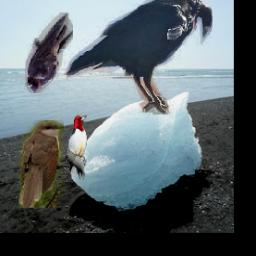Crow: (65, 0, 213, 115)
Cuckoo: (19, 121, 65, 209)
Swallow: (25, 13, 74, 93)
Woodpecker: (67, 115, 87, 180)
